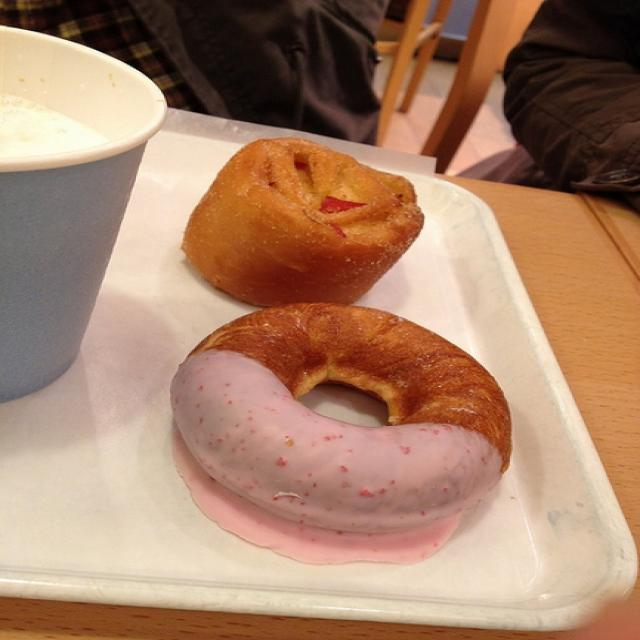炸货点心: (19, 42, 615, 612)
